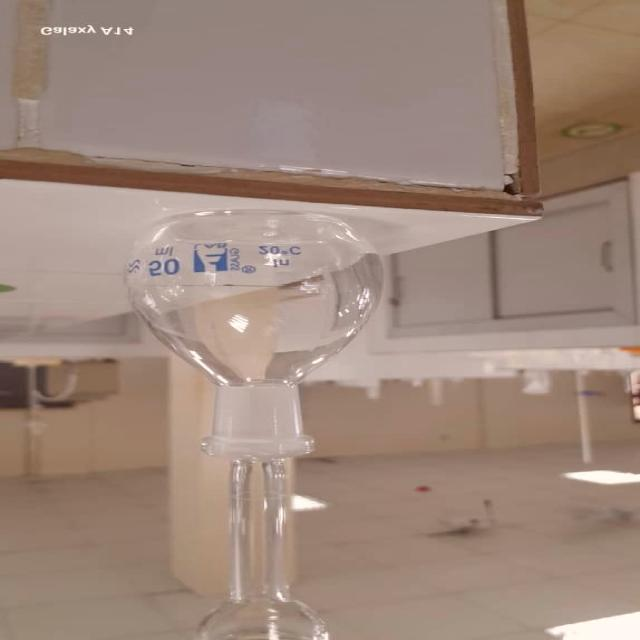Density Bottles for Solids: (114, 204, 374, 637)
